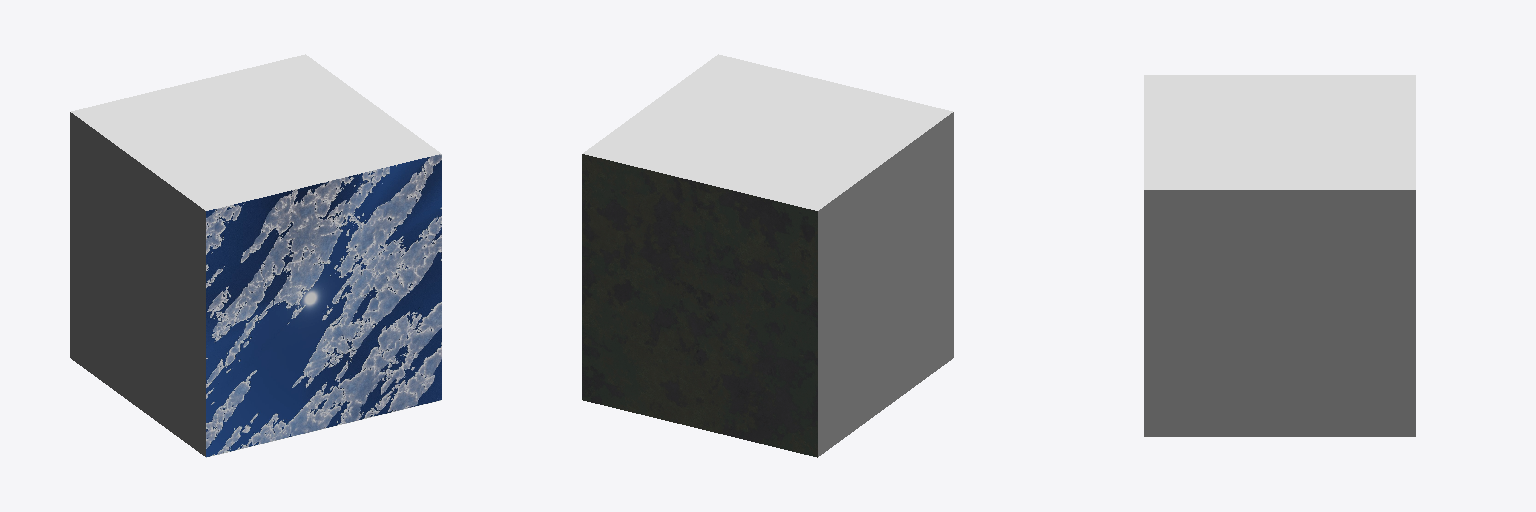
The picture shows the model from 3 angles: view 1: azimuth 30°, elevation 25°; view 2: azimuth 150°, elevation 25°; view 3: azimuth 270°, elevation 25°; orthographic projection.
Visible parts, largest first — view 1: skybox_foresthills_top, skybox_foresthills_back, skybox_foresthills_right; view 2: skybox_foresthills_bottom, skybox_foresthills_back, skybox_foresthills_right; view 3: skybox_foresthills_front, skybox_foresthills_right.
Boxes of the visible parts, box(x1,y1,x2,y2) form: skybox_foresthills_top: box(206, 154, 441, 457); skybox_foresthills_back: box(70, 112, 205, 456); skybox_foresthills_right: box(71, 54, 440, 210); skybox_foresthills_bottom: box(582, 154, 817, 457); skybox_foresthills_back: box(818, 112, 953, 456); skybox_foresthills_right: box(583, 54, 952, 210); skybox_foresthills_front: box(1144, 190, 1415, 436); skybox_foresthills_right: box(1144, 75, 1415, 189).
Size of the model in its own units: 3 by 3 by 3.
6 materials, 2 textured.